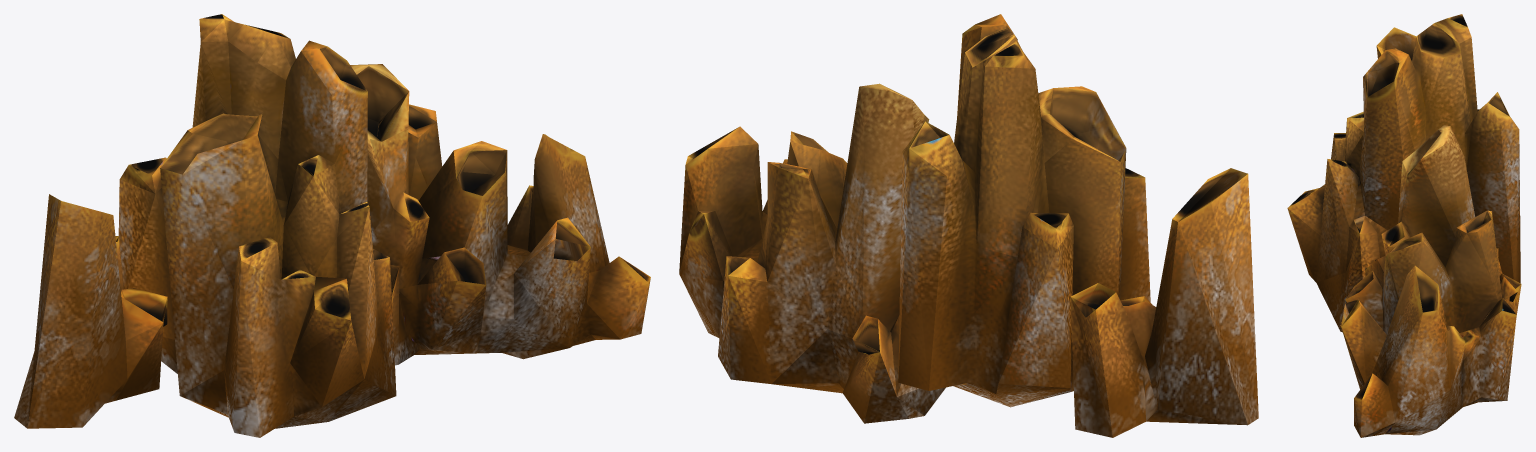
The picture shows the model from 3 angles, left to right: view 1: azimuth 30°, elevation 25°; view 2: azimuth 150°, elevation 25°; view 3: azimuth 270°, elevation 25°; orthographic projection. The views are drawn at different scales.
Visible parts, largest first — view 1: sc010; view 2: sc010; view 3: sc010.
Part boxes in pixels (x1=…): sc010: x1=14, y1=14, x2=650, y2=437; sc010: x1=679, y1=14, x2=1258, y2=437; sc010: x1=1287, y1=14, x2=1521, y2=437.
Bounding box in the file's own units: 408 × 254 × 179.
